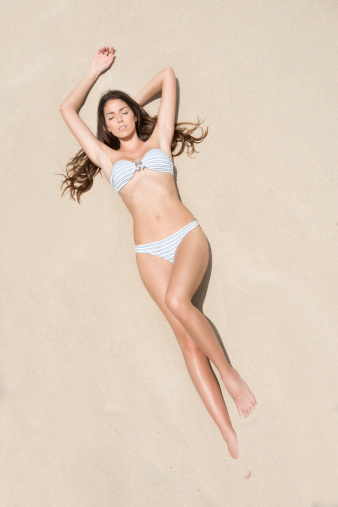deitado: (22, 31, 264, 472)
